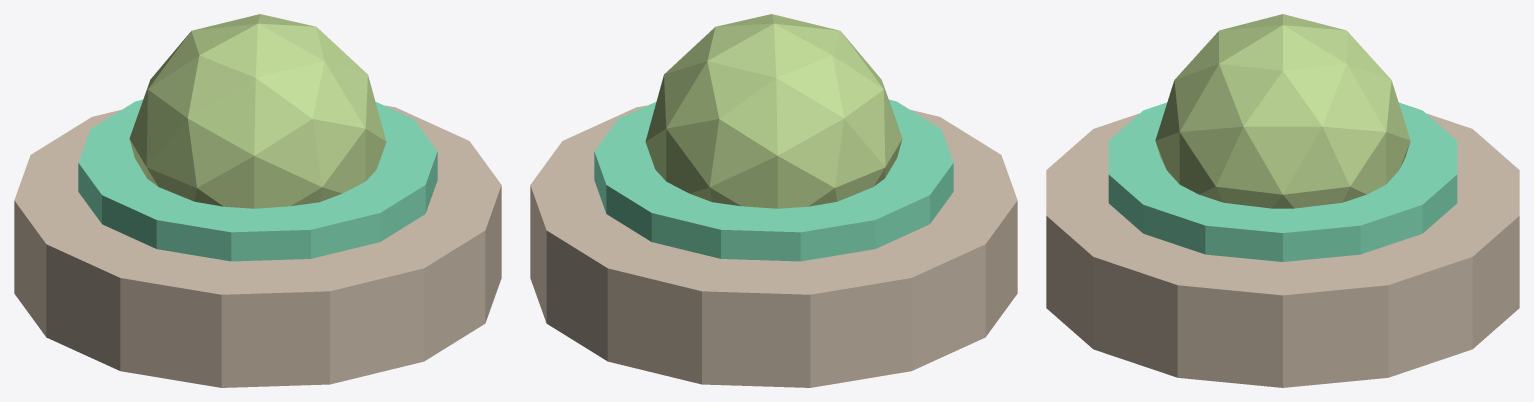
Rendered from Exit_Pad.glb.
3 views of the same model, side by side, from view 1: azimuth 30°, elevation 25°; view 2: azimuth 150°, elevation 25°; view 3: azimuth 270°, elevation 25° (orthographic).
Parts seen in each view (by area): view 1: base_0, bright_2, ring_1; view 2: base_0, bright_2, ring_1; view 3: base_0, bright_2, ring_1.
Boxes of the visible parts, x1,y1,x2,y2 form: base_0: (14, 105, 501, 387); bright_2: (129, 14, 386, 208); ring_1: (78, 99, 437, 261); base_0: (530, 105, 1017, 387); bright_2: (645, 14, 902, 208); ring_1: (594, 99, 953, 261); base_0: (1046, 113, 1519, 387); bright_2: (1155, 14, 1410, 208); ring_1: (1108, 102, 1457, 261).
Size of the model in its own units: 0.38 by 0.225 by 0.3705.
